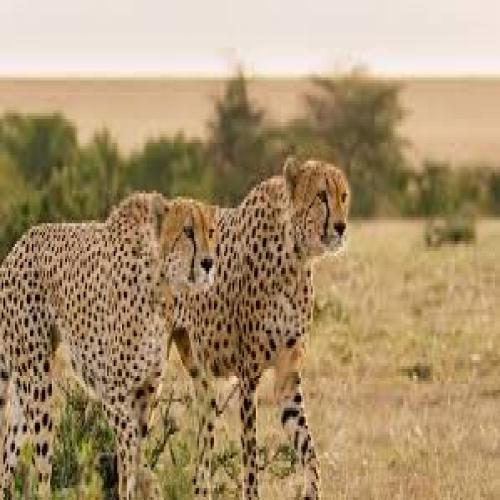cheetah-endangered: (0, 187, 219, 500), (171, 155, 352, 500)
